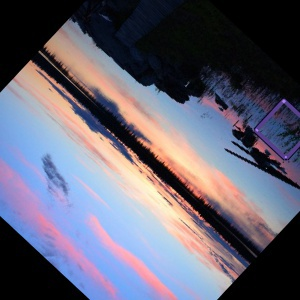square: (253, 96, 300, 161)
